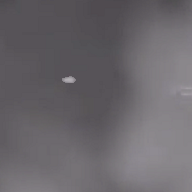Target: (62, 76, 76, 83)
